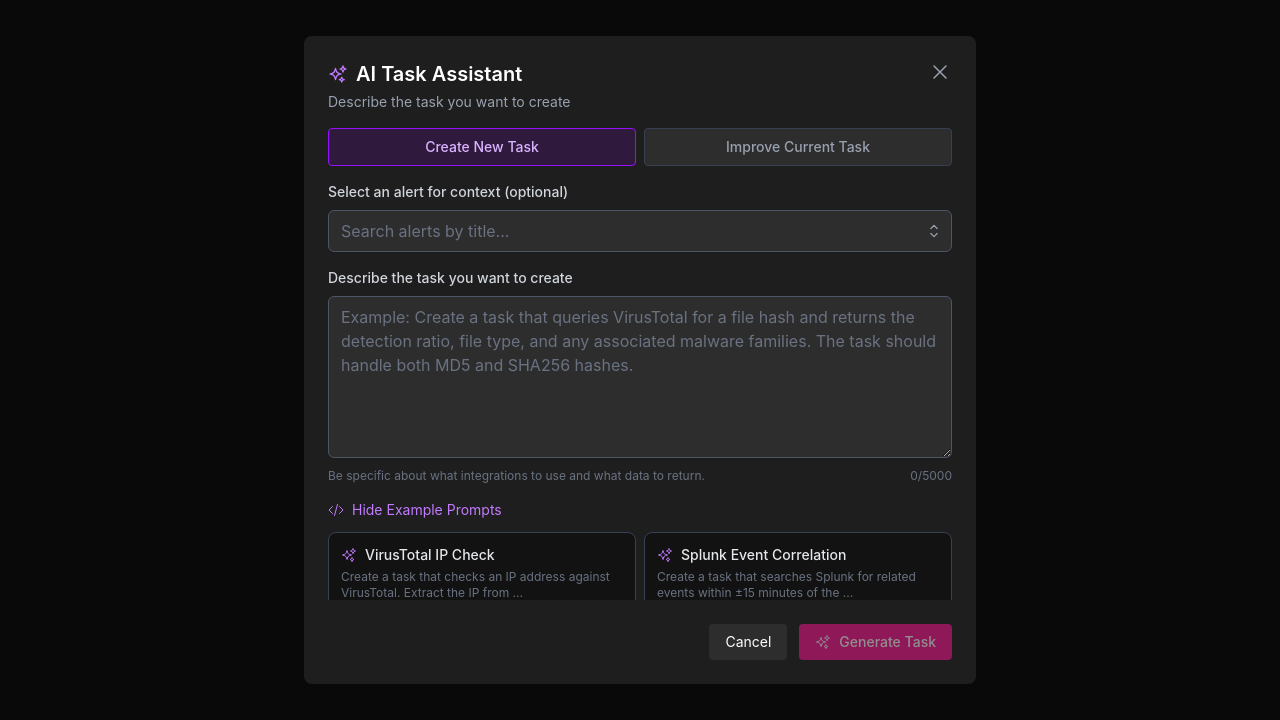
Test: TaskGenerationModal › mode selector › switches to improve mode and updates labels
The image size is (1280, 720).
// Click "Improve Current Task"
Click the button "Improve Current Task" at point(798, 147), box [644, 128, 952, 166]
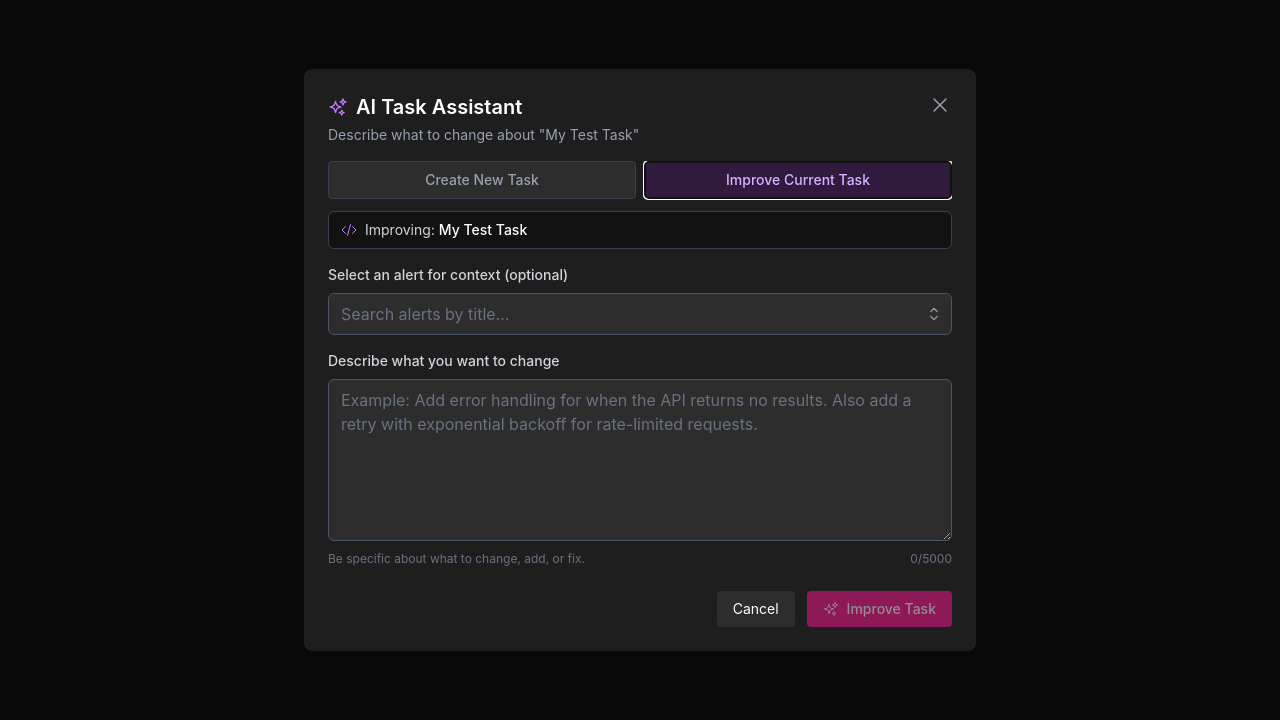
Now the text "My Test Task" is shown, box [439, 221, 527, 238]
Now the text "Improving: My Test Task" is shown, box [365, 220, 527, 240]
Now the text "Describe what you want to change" is shown, box [328, 352, 560, 369]
